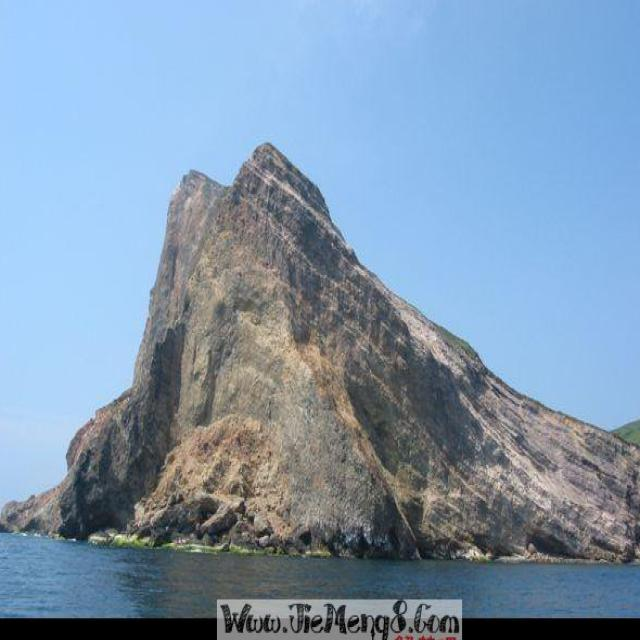reef: (95, 256, 636, 594)
